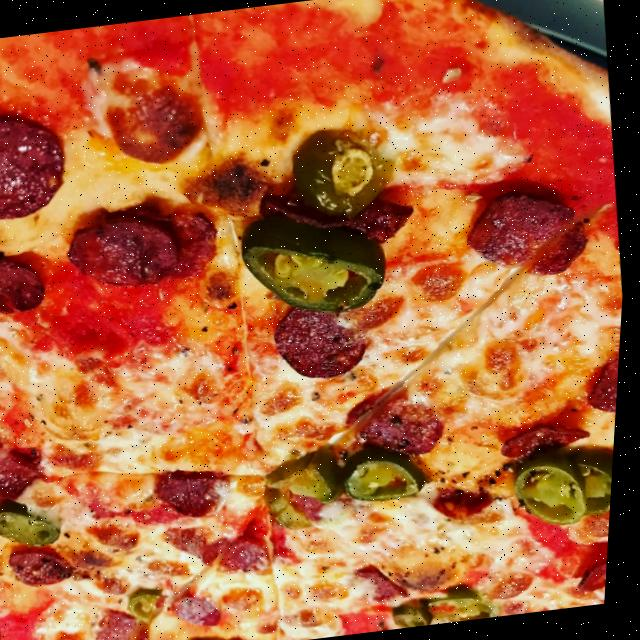pepperoni: (460, 181, 600, 284), (253, 179, 423, 258), (58, 209, 187, 293), (0, 103, 76, 227), (272, 300, 381, 386), (364, 400, 453, 460), (157, 204, 228, 278), (154, 462, 239, 523), (0, 249, 51, 317), (503, 420, 596, 457), (11, 543, 81, 589), (433, 476, 500, 524), (0, 446, 53, 499), (588, 346, 624, 416), (178, 588, 232, 628), (99, 604, 158, 640), (224, 532, 273, 574), (363, 565, 413, 604), (300, 488, 352, 524), (582, 555, 614, 592), (232, 636, 269, 640)
pizza: (0, 0, 640, 640)
